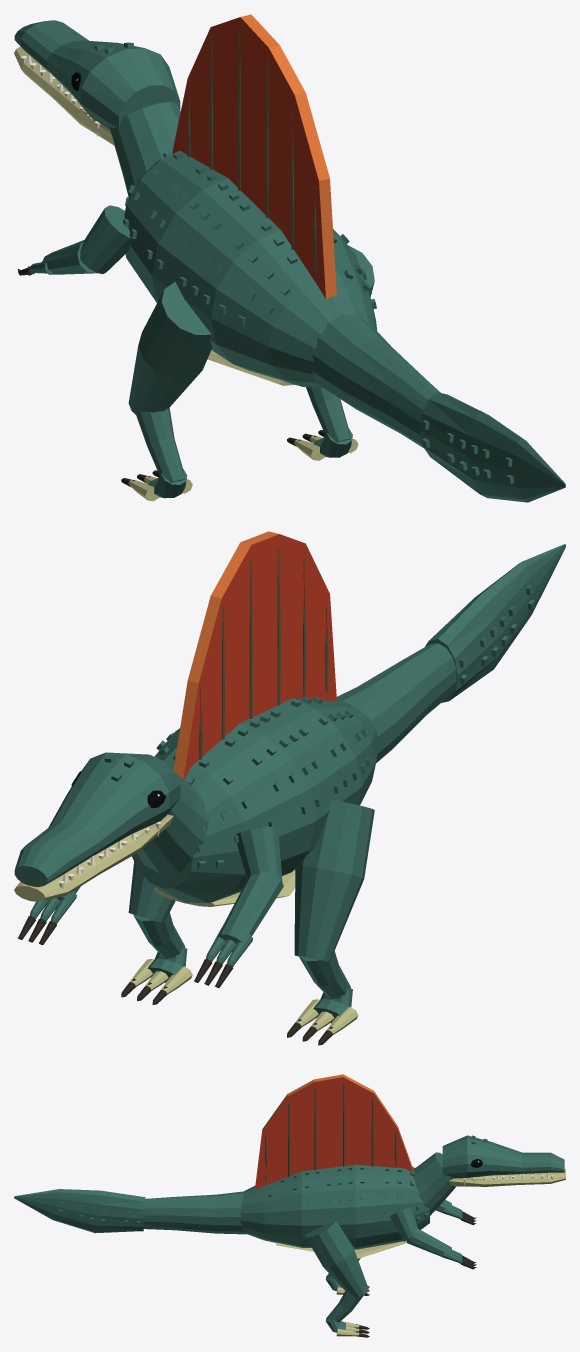
Rendered from Spinosaurus.fbx.
3 renders of one model, top to bottom at view 1: azimuth 30°, elevation 25°; view 2: azimuth 150°, elevation 25°; view 3: azimuth 270°, elevation 25°, orthographic. The views are drawn at different scales.
Parts seen in each view (by area): view 1: Import3D_Core, Import3D_Sail, Import3D_Head, Import3D_Tail1, Import3D_Tail, Import3D_LegBL, Import3D_Neck, Import3D_ArmL, Import3D_KneeBL, Import3D_Jaw, Import3D_KneeBR, Import3D_ForearmL (+2 smaller); view 2: Import3D_Core, Import3D_Sail, Import3D_Head, Import3D_LegBL, Import3D_Tail1, Import3D_Tail, Import3D_ForearmL, Import3D_Neck, Import3D_Jaw, Import3D_FootBL, Import3D_FootBR, Import3D_ArmL (+4 smaller); view 3: Import3D_Core, Import3D_Sail, Import3D_Tail1, Import3D_Head, Import3D_Tail, Import3D_LegBR, Import3D_Neck, Import3D_Jaw, Import3D_ForearmR, Import3D_ArmR, Import3D_FootBR, Import3D_KneeBR (+1 smaller).
Part boxes in pixels (<box>): Import3D_Core: <box>123,150,376,388</box>; Import3D_Sail: <box>172,14,336,298</box>; Import3D_Head: <box>14,20,180,136</box>; Import3D_Tail1: <box>420,392,565,502</box>; Import3D_Tail: <box>311,314,440,447</box>; Import3D_LegBL: <box>128,282,212,414</box>; Import3D_Neck: <box>110,101,180,198</box>; Import3D_ArmL: <box>80,205,131,273</box>; Import3D_KneeBL: <box>136,408,185,482</box>; Import3D_Jaw: <box>14,46,114,145</box>; Import3D_KneeBR: <box>306,387,350,444</box>; Import3D_ForearmL: <box>17,240,97,275</box>; Import3D_Core: <box>132,697,378,906</box>; Import3D_Sail: <box>173,531,336,779</box>; Import3D_Head: <box>14,752,180,888</box>; Import3D_LegBL: <box>294,799,374,962</box>; Import3D_Tail1: <box>425,544,565,702</box>; Import3D_Tail: <box>336,643,456,762</box>; Import3D_ForearmL: <box>194,871,283,987</box>; Import3D_Neck: <box>137,773,208,873</box>; Import3D_Jaw: <box>14,814,173,901</box>; Import3D_FootBL: <box>287,988,358,1045</box>; Import3D_FootBR: <box>121,947,192,1004</box>; Import3D_ArmL: <box>236,826,282,881</box>; Import3D_Core: <box>240,1164,429,1258</box>; Import3D_Sail: <box>255,1074,413,1189</box>; Import3D_Tail1: <box>14,1189,145,1233</box>; Import3D_Head: <box>442,1135,564,1185</box>; Import3D_Tail: <box>144,1191,246,1234</box>; Import3D_LegBR: <box>305,1220,368,1298</box>; Import3D_Neck: <box>413,1152,455,1215</box>; Import3D_Jaw: <box>449,1169,565,1186</box>; Import3D_ForearmR: <box>406,1228,476,1269</box>; Import3D_ArmR: <box>390,1207,418,1241</box>; Import3D_FootBR: <box>325,1320,369,1337</box>; Import3D_KneeBR: <box>326,1291,363,1322</box>.
Bounding box in the file's own units: 208 × 419 × 885.
1 material, 1 textured.
